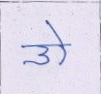e_matra: (44, 20, 66, 44)
